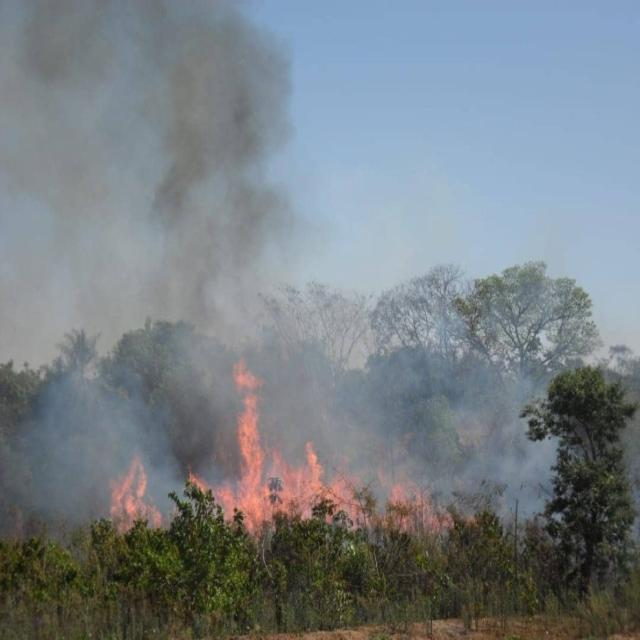Fire: (272, 444, 370, 526), (230, 361, 270, 524), (110, 448, 164, 537), (386, 482, 472, 530), (188, 467, 232, 517)
Smoke: (0, 0, 311, 335), (23, 381, 181, 532), (392, 359, 552, 498), (278, 362, 388, 473), (176, 338, 237, 476)
